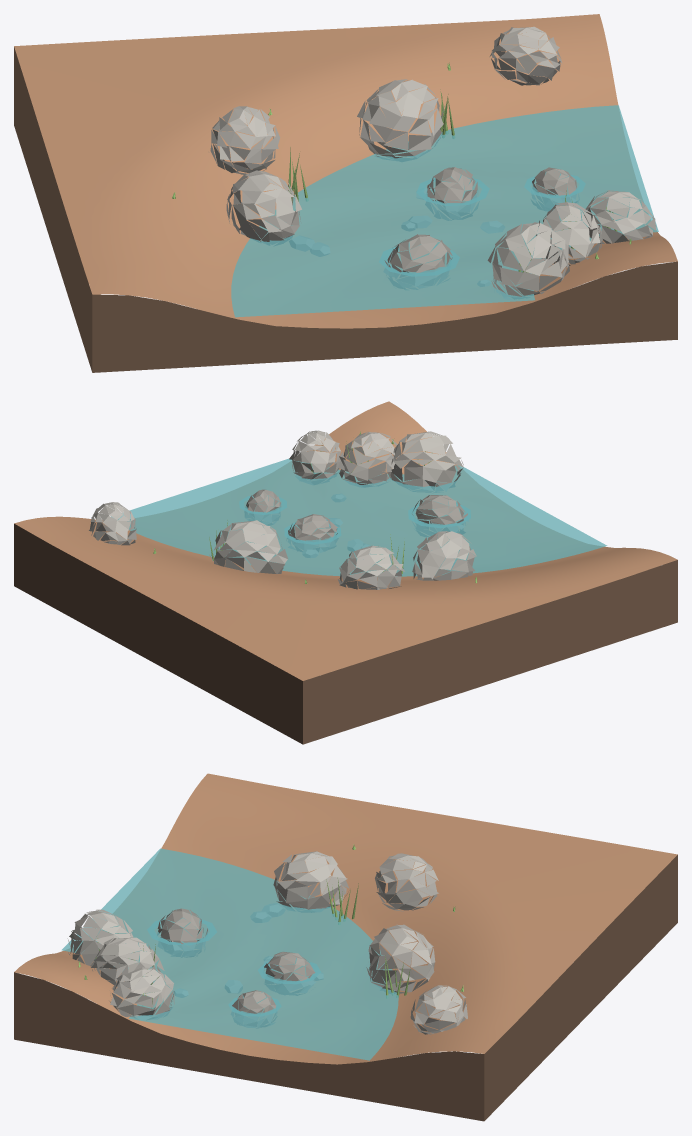
Rendered from south_indian_village_river_bend_8x8.glb.
The picture shows the model from 3 angles, top to bottom: view 1: azimuth 30°, elevation 25°; view 2: azimuth 150°, elevation 25°; view 3: azimuth 270°, elevation 25°; orthographic projection. The views are drawn at different scales.
Visible parts, largest first — view 1: Riverbed_And_Curved_Laterite_Banks, Curved_River_Water_Surface, River_Bend_Foundation_Skirt, River_Granite_Boulders; view 2: Riverbed_And_Curved_Laterite_Banks, River_Bend_Foundation_Skirt, Curved_River_Water_Surface, River_Granite_Boulders; view 3: Riverbed_And_Curved_Laterite_Banks, Curved_River_Water_Surface, River_Bend_Foundation_Skirt, River_Granite_Boulders.
Boxes of the visible parts, bbox=[...] form: Riverbed_And_Curved_Laterite_Banks: bbox=[14, 14, 677, 328]; Curved_River_Water_Surface: bbox=[231, 105, 658, 317]; River_Bend_Foundation_Skirt: bbox=[14, 47, 677, 372]; River_Granite_Boulders: bbox=[210, 26, 656, 299]; Riverbed_And_Curved_Laterite_Banks: bbox=[14, 401, 677, 680]; River_Bend_Foundation_Skirt: bbox=[14, 523, 677, 744]; Curved_River_Water_Surface: bbox=[111, 458, 607, 576]; River_Granite_Boulders: bbox=[89, 430, 476, 589]; Riverbed_And_Curved_Laterite_Banks: bbox=[14, 773, 677, 1064]; Curved_River_Water_Surface: bbox=[61, 848, 398, 1060]; River_Bend_Foundation_Skirt: bbox=[14, 855, 677, 1121]; River_Granite_Boulders: bbox=[67, 851, 467, 1034].
Size of the model in its own units: 10.44 by 1.69 by 10.44.
